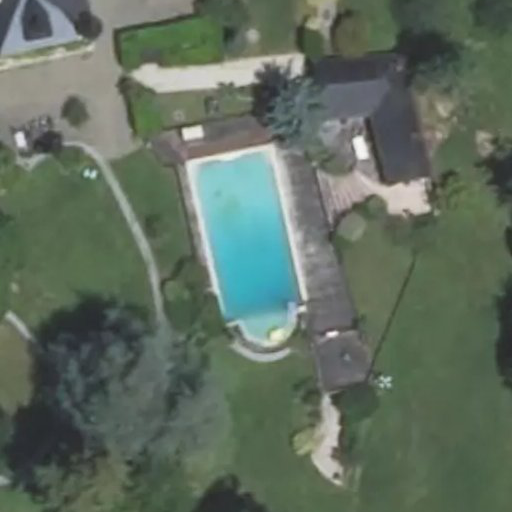pool: (199, 163, 312, 320)
